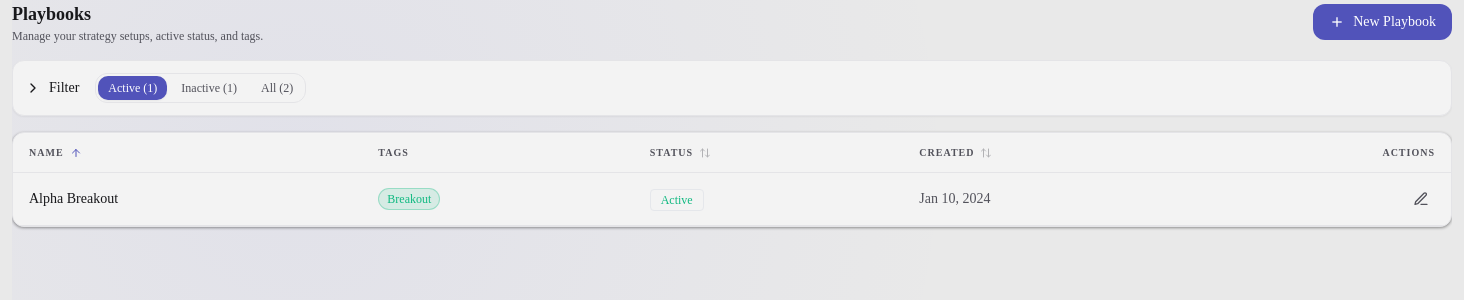
Test: PlaybookList › shows all playbooks when All tab is clicked
The width and height of the screenshot is (1464, 300).
Click the button "All (2)": (277, 88) [251, 76, 303, 100]
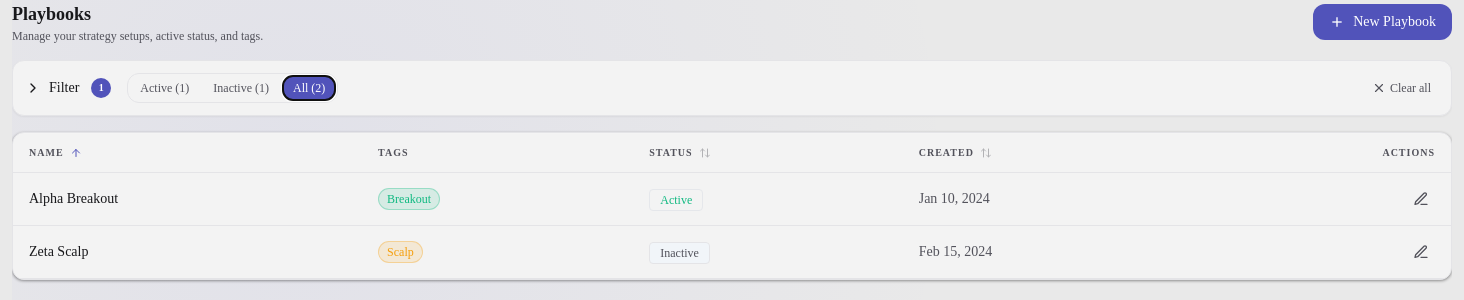
Expected: the text "Alpha Breakout" is shown, [13, 172, 362, 226]
Expected: the text "Zeta Scalp" is shown, [13, 226, 362, 278]
